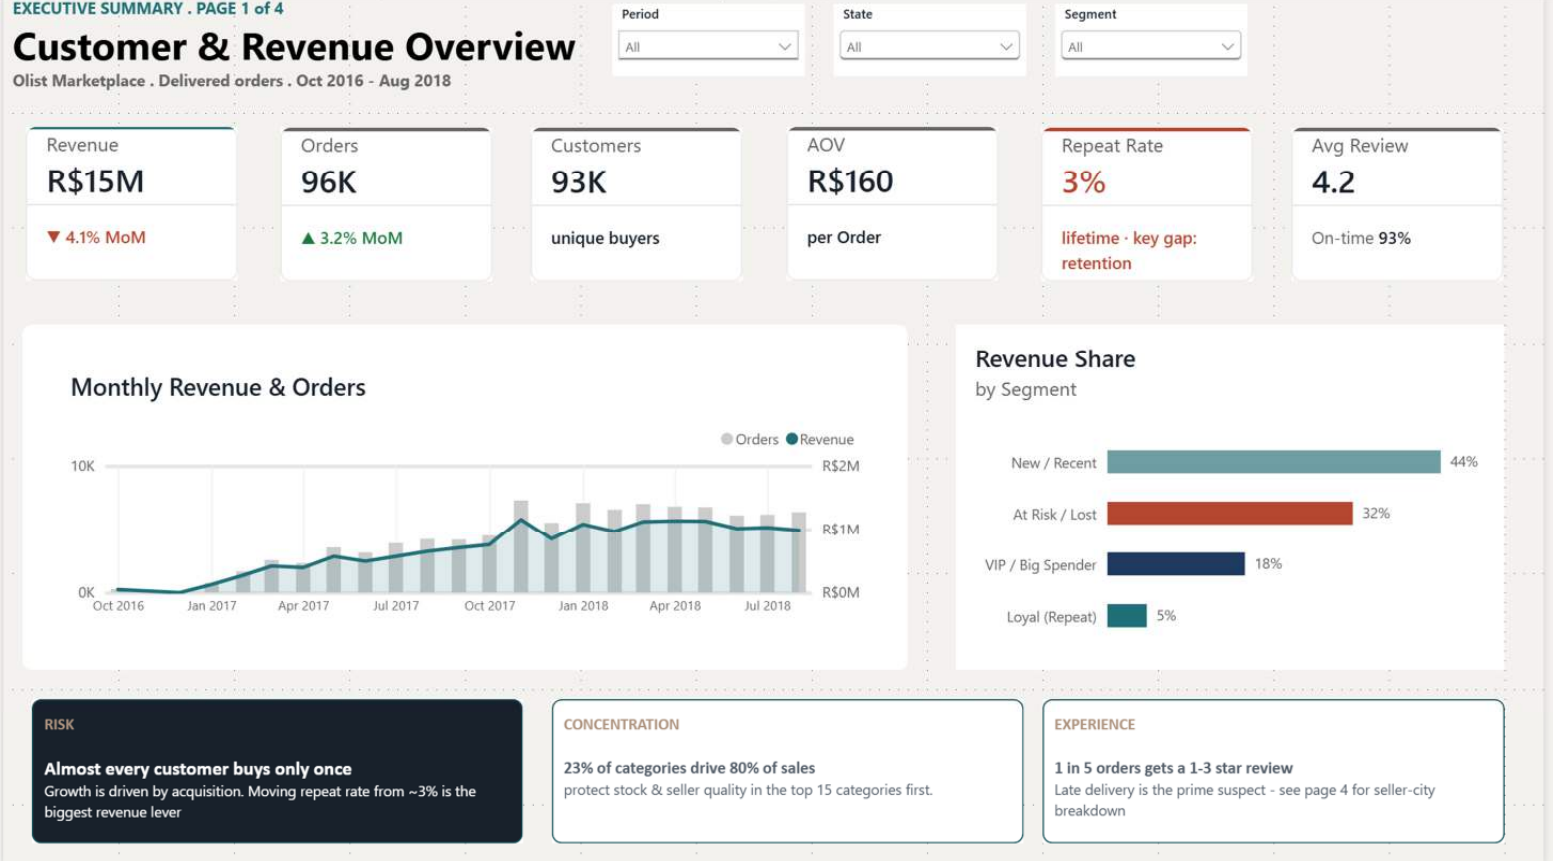

What the dashboard file says about the page in this screenshot:
{"tool":"powerbi","page":{"name":"Executive Summary","canvas":[1280,720],"ordinal":0},"visuals":[{"type":"textbox","box":[8,0,528,96],"z":0},{"type":"slicer","title":"Period:","fields":{"Values":["dim_date.Year"]},"box":[506.3,5.7,160,60],"z":1000},{"type":"slicer","title":"State:","fields":{"Values":["fact_orders.customer_state"]},"box":[690.3,5.7,160,60],"z":2000},{"type":"slicer","title":"Segment:","fields":{"Values":["dim_customer.Segment"]},"box":[874.3,5.7,160,60],"z":3000},{"type":"cardVisual","fields":{"Data":["_Measures.Revenue"]},"box":[18.9,107.8,176,128],"z":4000},{"type":"cardVisual","fields":{"Data":["_Measures.Orders"]},"box":[230.6,108.4,176,128],"z":5000},{"type":"cardVisual","fields":{"Data":["_Measures.Customers"]},"box":[438.6,108.4,176,128],"z":6000},{"type":"cardVisual","fields":{"Data":["_Measures.AOV"]},"box":[650.9,107.8,176,128],"z":7000},{"type":"cardVisual","fields":{"Data":["_Measures.Repeat Rate"]},"box":[862.6,108.4,176,128],"z":8000},{"type":"cardVisual","fields":{"Data":["_Measures.Avg Review"]},"box":[1070.6,108.4,176,128],"z":9000},{"type":"lineStackedColumnComboChart","title":"Monthly Revenue & Orders","fields":{"Category":["dim_date.Month Start"],"Y":["_Measures.Orders"],"Y2":["_Measures.Revenue"]},"box":[16,272,736,288],"z":10000},{"type":"clusteredBarChart","fields":{"Category":["dim_customer.Segment"],"Y":["_Measures.Revenue Share"]},"box":[792,272,456,288],"z":11000},{"type":"shape","box":[24,584,408,120],"z":12000,"group":"g3"},{"type":"group","id":"g1","title":"Group 1","box":[864,584,384,120],"z":12000},{"type":"group","id":"g2","title":"Group 2","box":[456,584,392,120],"z":13000},{"type":"textbox","box":[34.2,632,387.6,60],"z":13000,"group":"g3"},{"type":"group","id":"g3","title":"Group 3","box":[24,584,408,120],"z":14000},{"type":"textbox","box":[34.2,596,61.2,36],"z":14000,"group":"g3"},{"type":"shape","box":[456,584,392,120],"z":15000,"group":"g2"},{"type":"textbox","box":[465.8,596,147,36],"z":16000,"group":"g2"},{"type":"textbox","box":[465.8,632,372.4,60],"z":17000,"group":"g2"},{"type":"shape","box":[864,584,384,120],"z":18000,"group":"g1"},{"type":"textbox","box":[873.6,596,144,36],"z":19000,"group":"g1"},{"type":"textbox","box":[873.6,632,364.8,60],"z":20000,"group":"g1"}]}

Visuals, with their boxes in screenshot pixels (x1, y1, x2, y2), scaled from the page's 1280x720 canvas onto the 1553x861 screenshot:
textbox: (10, 0, 650, 115)
"Period:" slicer: (614, 7, 808, 79)
"State:" slicer: (838, 7, 1032, 79)
"Segment:" slicer: (1061, 7, 1255, 79)
cardVisual - _Measures.Revenue: (23, 129, 236, 282)
cardVisual - _Measures.Orders: (280, 130, 493, 283)
cardVisual - _Measures.Customers: (532, 130, 746, 283)
cardVisual - _Measures.AOV: (790, 129, 1003, 282)
cardVisual - _Measures.Repeat Rate: (1047, 130, 1260, 283)
cardVisual - _Measures.Avg Review: (1299, 130, 1512, 283)
"Monthly Revenue & Orders" lineStackedColumnComboChart: (19, 325, 912, 670)
clusteredBarChart - dim_customer.Segment x _Measures.Revenue Share: (961, 325, 1514, 670)
shape: (29, 698, 524, 842)
"Group 1" group: (1048, 698, 1514, 842)
"Group 2" group: (553, 698, 1029, 842)
textbox: (41, 756, 512, 828)
"Group 3" group: (29, 698, 524, 842)
textbox: (41, 713, 116, 756)
shape: (553, 698, 1029, 842)
textbox: (565, 713, 743, 756)
textbox: (565, 756, 1017, 828)
shape: (1048, 698, 1514, 842)
textbox: (1060, 713, 1235, 756)
textbox: (1060, 756, 1503, 828)
